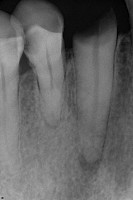Furcation Involvement: (76, 146, 102, 179)
